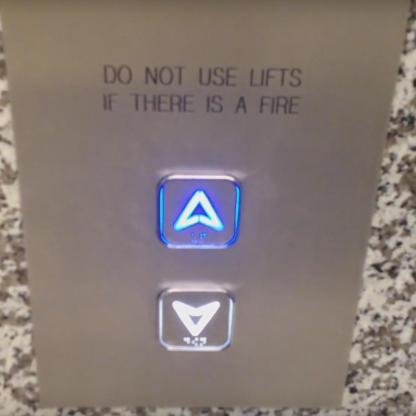down: (154, 284, 236, 355)
up: (153, 167, 243, 254)
